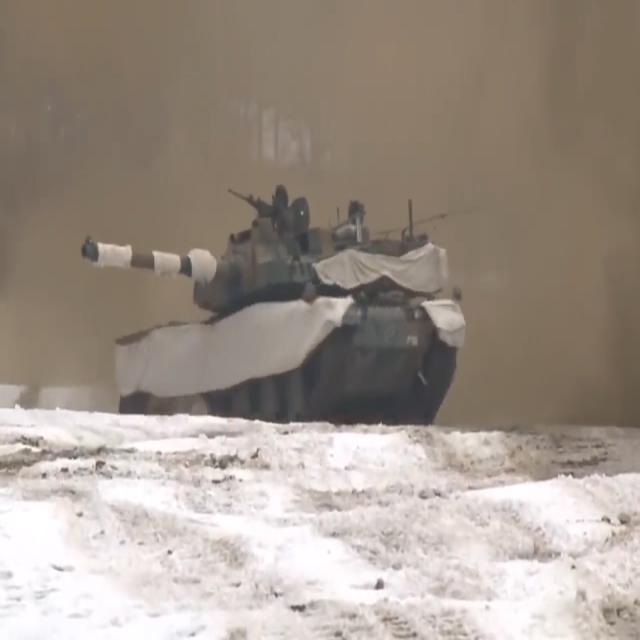korea tank: (78, 182, 466, 428)
